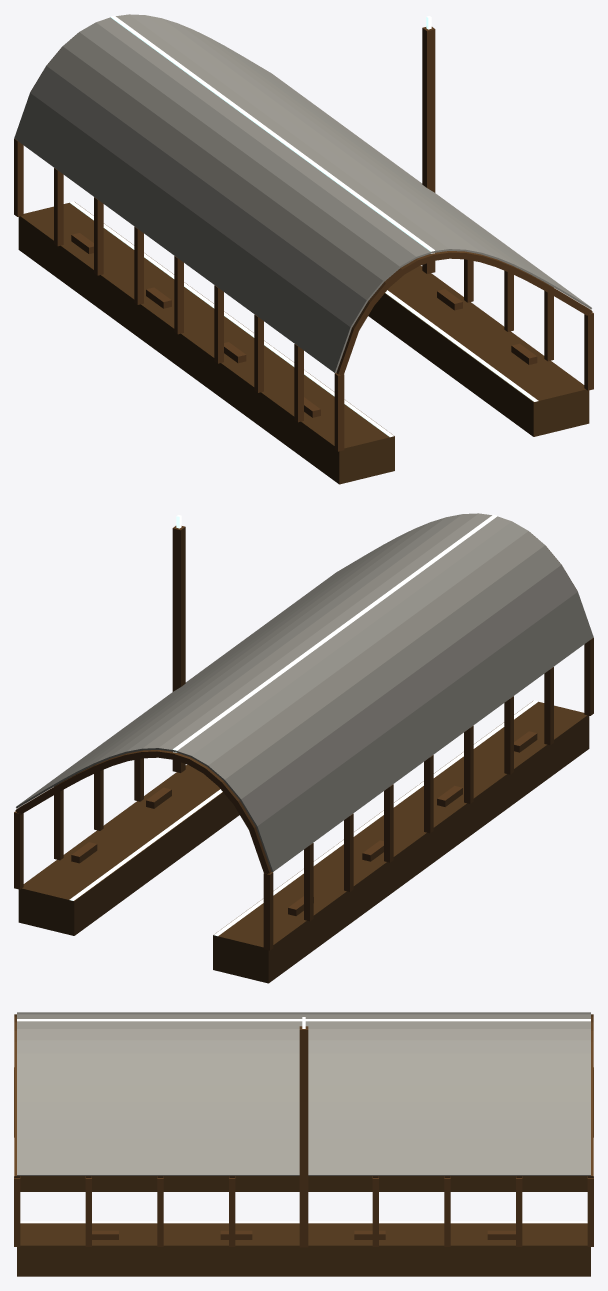
File: shaddai_station_ocean_v01.glb
The picture shows the model from 3 angles, top to bottom: view 1: azimuth 30°, elevation 25°; view 2: azimuth 150°, elevation 25°; view 3: azimuth 270°, elevation 25°; orthographic projection. The views are drawn at different scales.
Visible parts, largest first — view 1: shaddai_station_ocean; view 2: shaddai_station_ocean; view 3: shaddai_station_ocean.
Part boxes in pixels (x1,y1,x2,y2): shaddai_station_ocean: (14,14,593,484); shaddai_station_ocean: (14,513,593,983); shaddai_station_ocean: (14,1012,593,1276).
Size of the model in its own units: 18.63 by 19.92 by 40.44.
